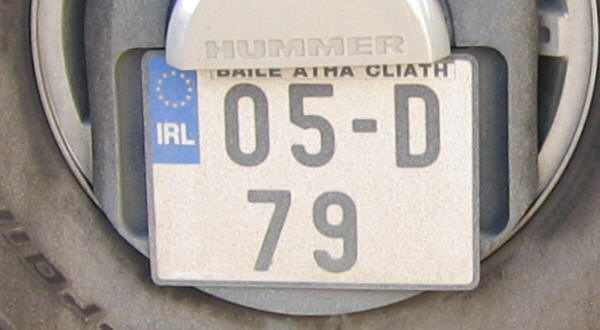license_plate: (139, 48, 481, 290)
